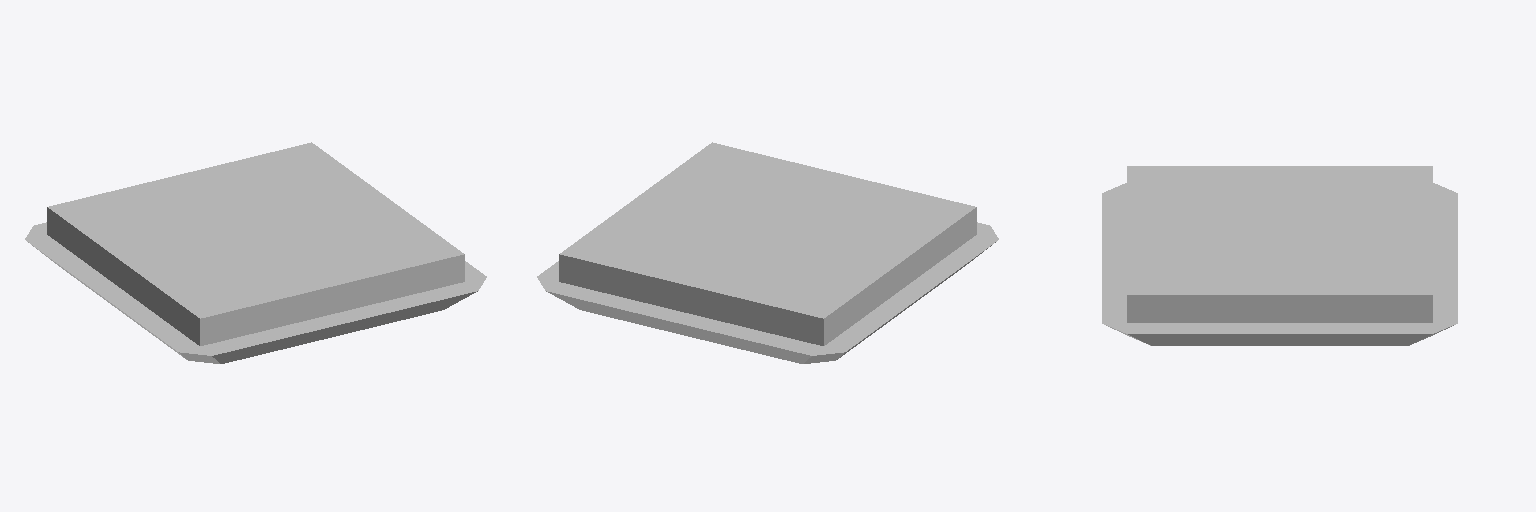
Rendered from tresh (Голова башни Bot).obj.
The picture shows the model from 3 angles: view 1: azimuth 30°, elevation 25°; view 2: azimuth 150°, elevation 25°; view 3: azimuth 270°, elevation 25°; orthographic projection.
Parts seen in each view (by area): view 1: tresh (Голова башни Bot); view 2: tresh (Голова башни Bot); view 3: tresh (Голова башни Bot).
Part boxes in pixels (x1,y1,x2,y2): tresh (Голова башни Bot): (25,142,486,363); tresh (Голова башни Bot): (537,142,998,363); tresh (Голова башни Bot): (1102,166,1457,345).
Size of the model in its own units: 3.5 by 0.5502 by 3.5.